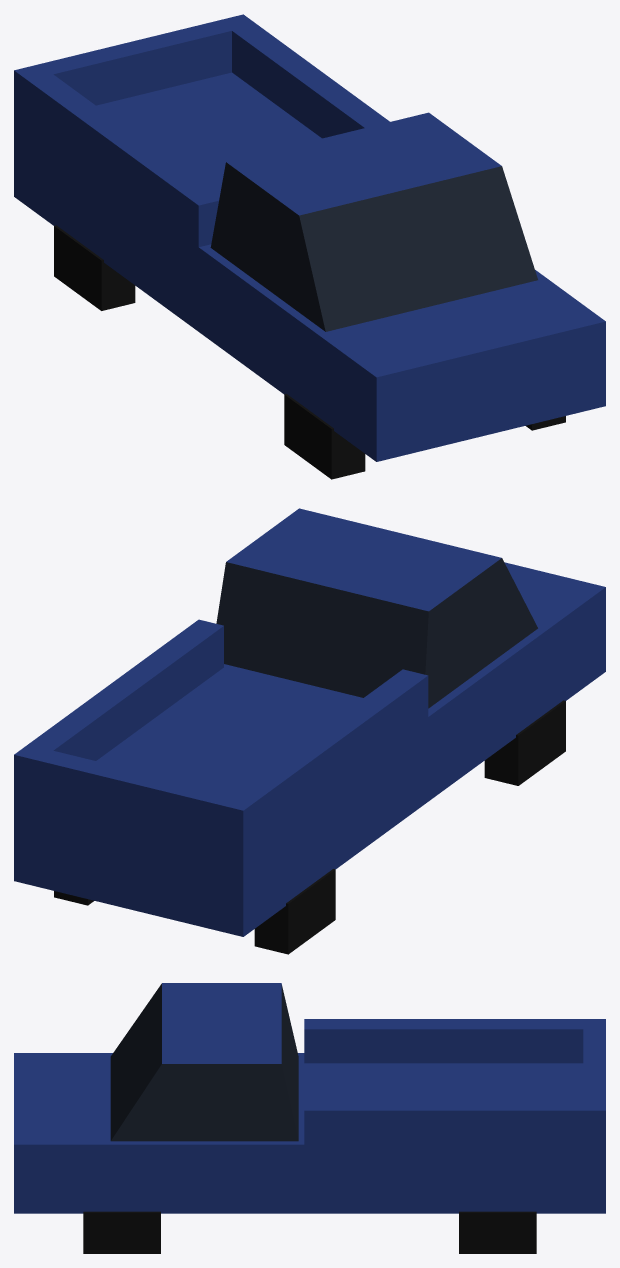
The model's file is car_pickup_blue.obj.
The picture shows the model from 3 angles, top to bottom: view 1: azimuth 30°, elevation 25°; view 2: azimuth 150°, elevation 25°; view 3: azimuth 270°, elevation 25°; orthographic projection. The views are drawn at different scales.
Visible parts, largest first — view 1: car_pickup_blue; view 2: car_pickup_blue; view 3: car_pickup_blue.
Part boxes in pixels (bbox=[...]): car_pickup_blue: bbox=[14, 14, 605, 479]; car_pickup_blue: bbox=[14, 508, 605, 954]; car_pickup_blue: bbox=[14, 983, 605, 1253].
Bounding box in the file's own units: 1.94 × 1.78 × 5.2.
